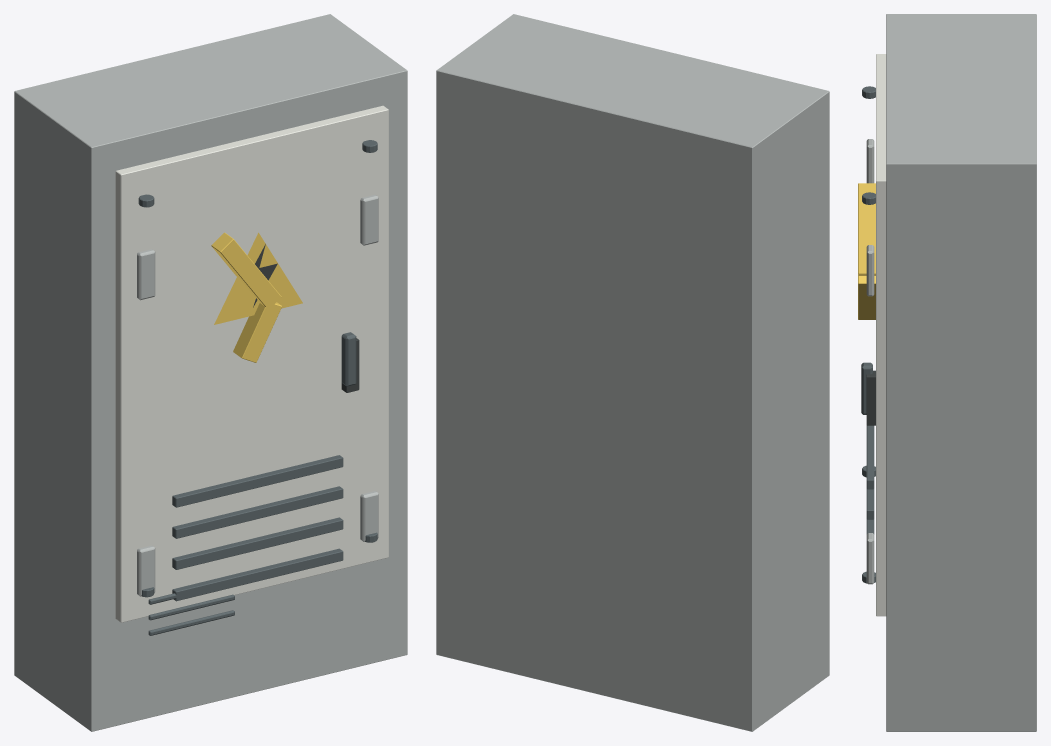
Rendered from Electrical_Cabinet.fbx.
3 renders of one model, left to right at view 1: azimuth 30°, elevation 25°; view 2: azimuth 150°, elevation 25°; view 3: azimuth 270°, elevation 25°, orthographic. The views are drawn at different scales.
Parts seen in each view (by area): view 1: Electrical_Cabinet__LPCXFER; view 2: Electrical_Cabinet__LPCXFER; view 3: Electrical_Cabinet__LPCXFER.
Boxes of the visible parts, bbox=[...] form: Electrical_Cabinet__LPCXFER: bbox=[14, 14, 407, 731]; Electrical_Cabinet__LPCXFER: bbox=[436, 14, 829, 731]; Electrical_Cabinet__LPCXFER: bbox=[858, 14, 1036, 731].
Size of the model in its own units: 85 by 150 by 42.75.
